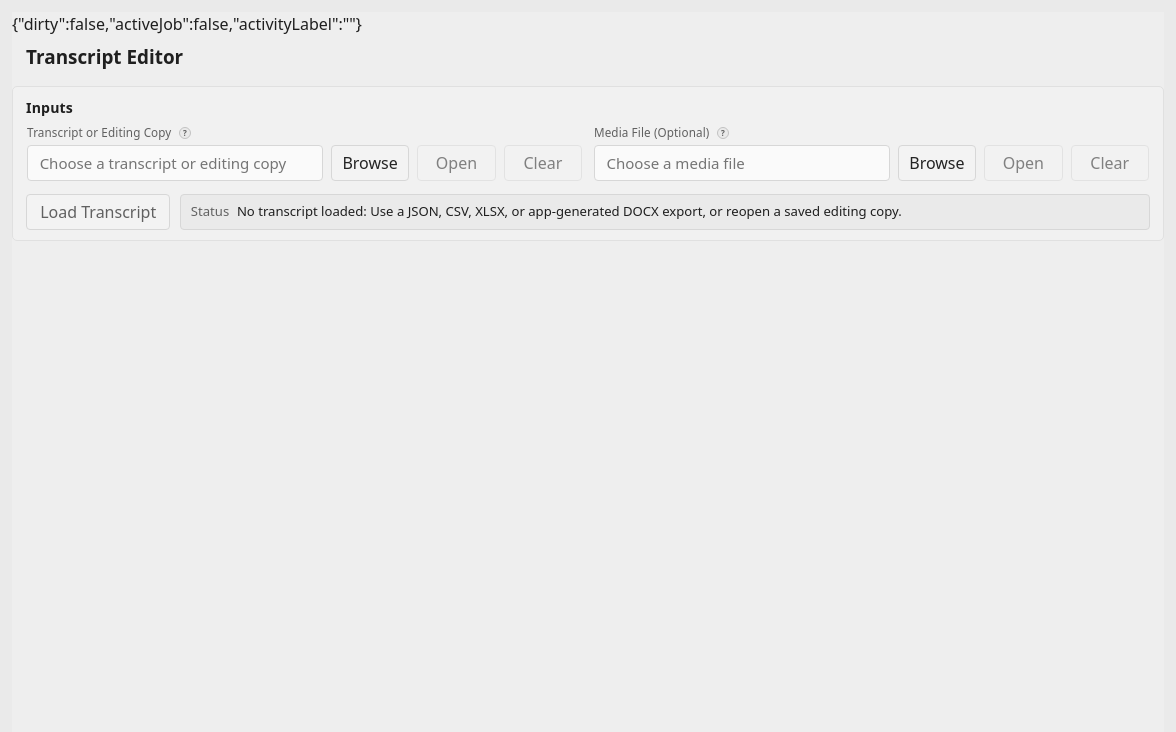
TranscriptEditorPage document workflow › returns to the preceding page when deleting its only segment
The image size is (1176, 732).
Step 1. Click the button "Browse" below "Transcript or Editing Copy" → (370,163), box [331,145,409,181]
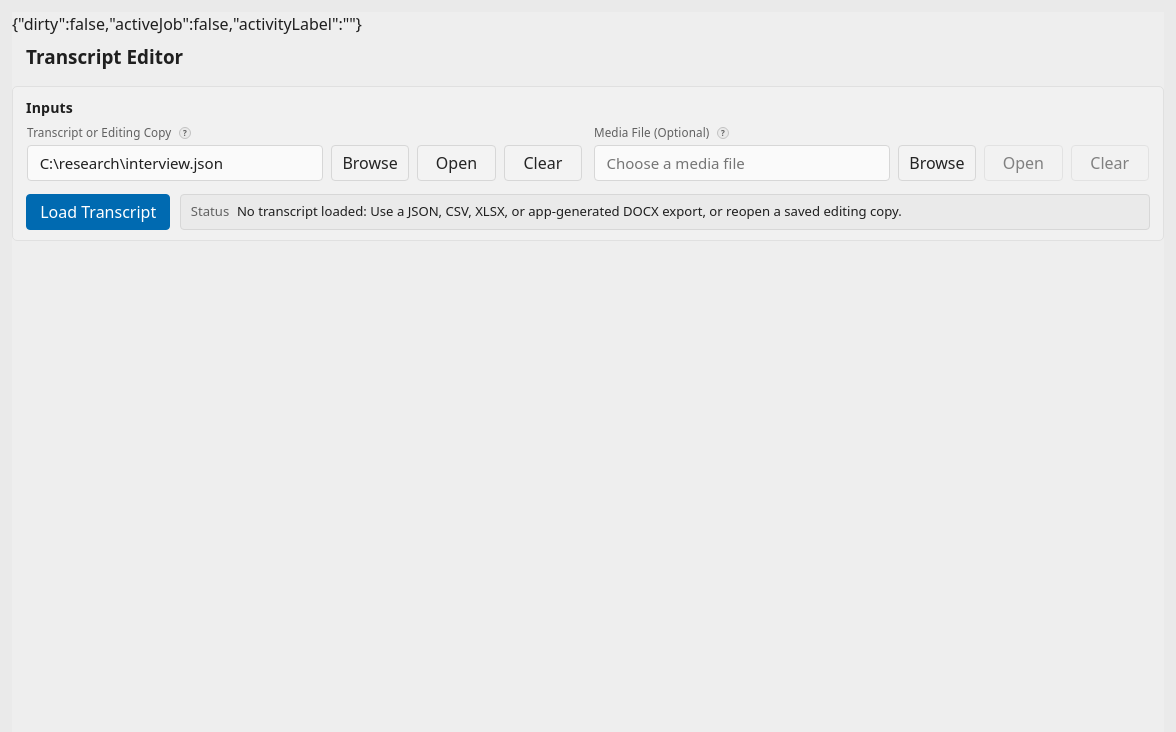
Step 2. Click the button "Load Transcript" → (98,212), box [26,194,170,230]
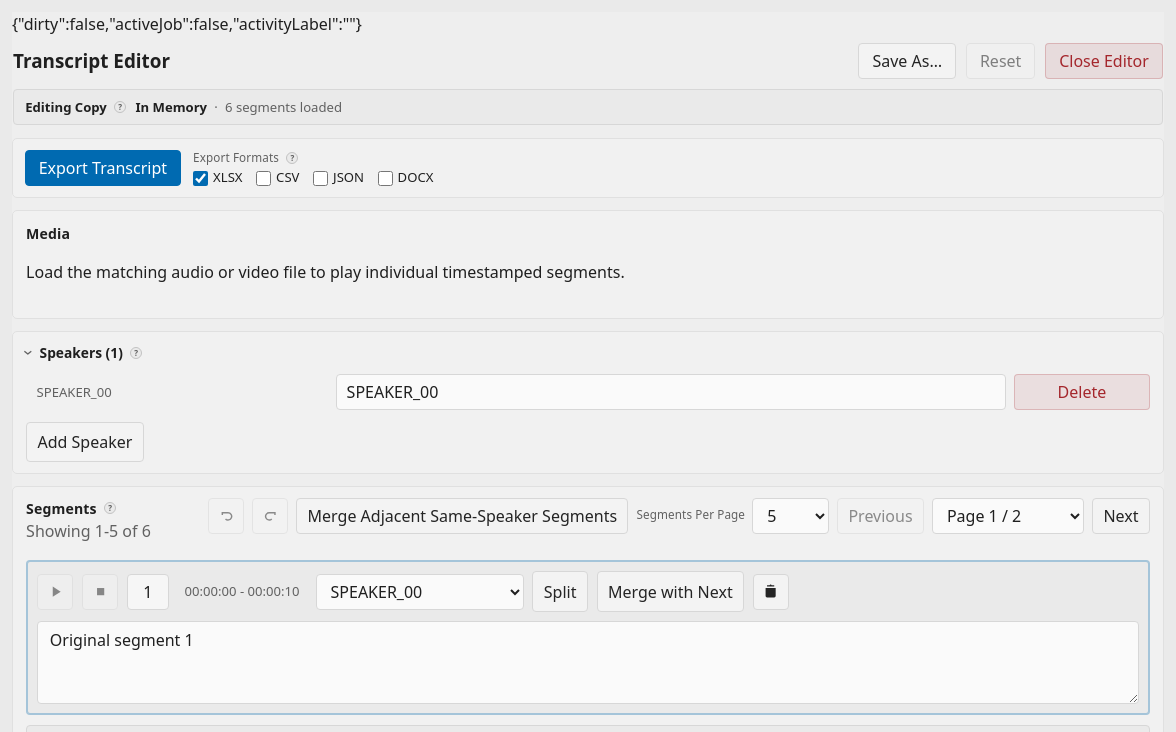
Now the button "Save As…" is shown, box [858,43,956,79]
Step 3. Select "5" in the dropdown labelled "Segments Per Page" → (791,516), box [752,498,829,534]
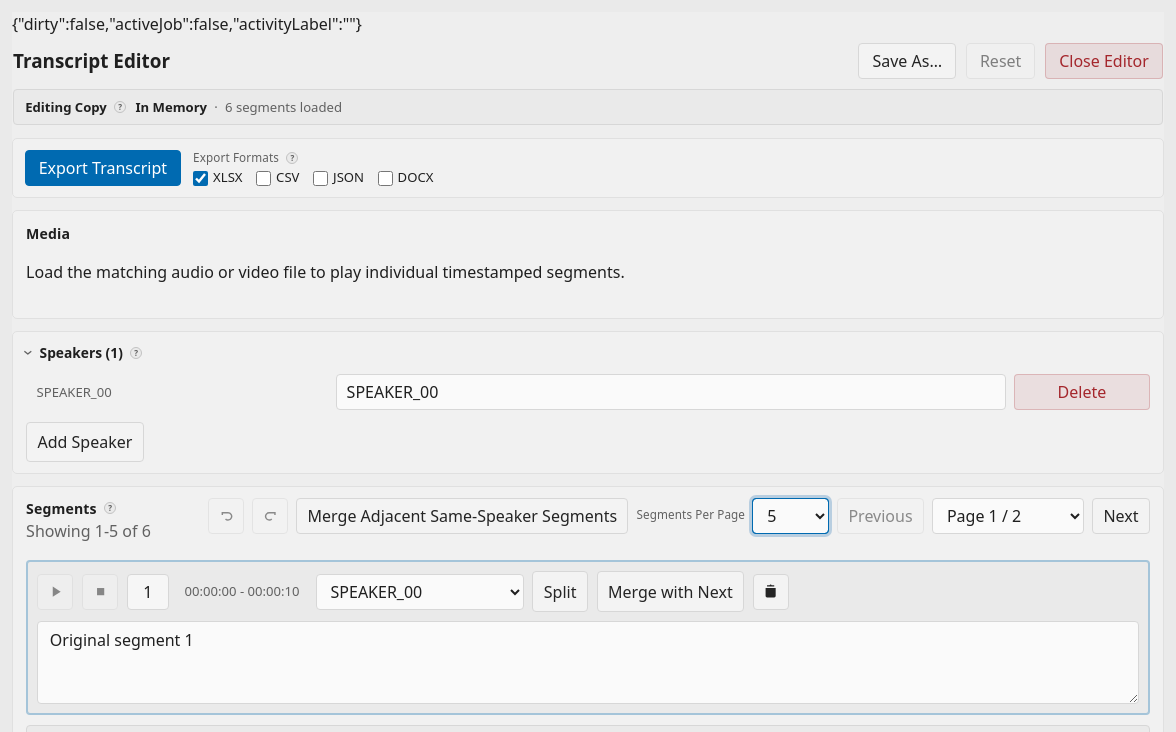
Step 4. Click the button "Next" → (1121,516), box [1092,498,1150,534]
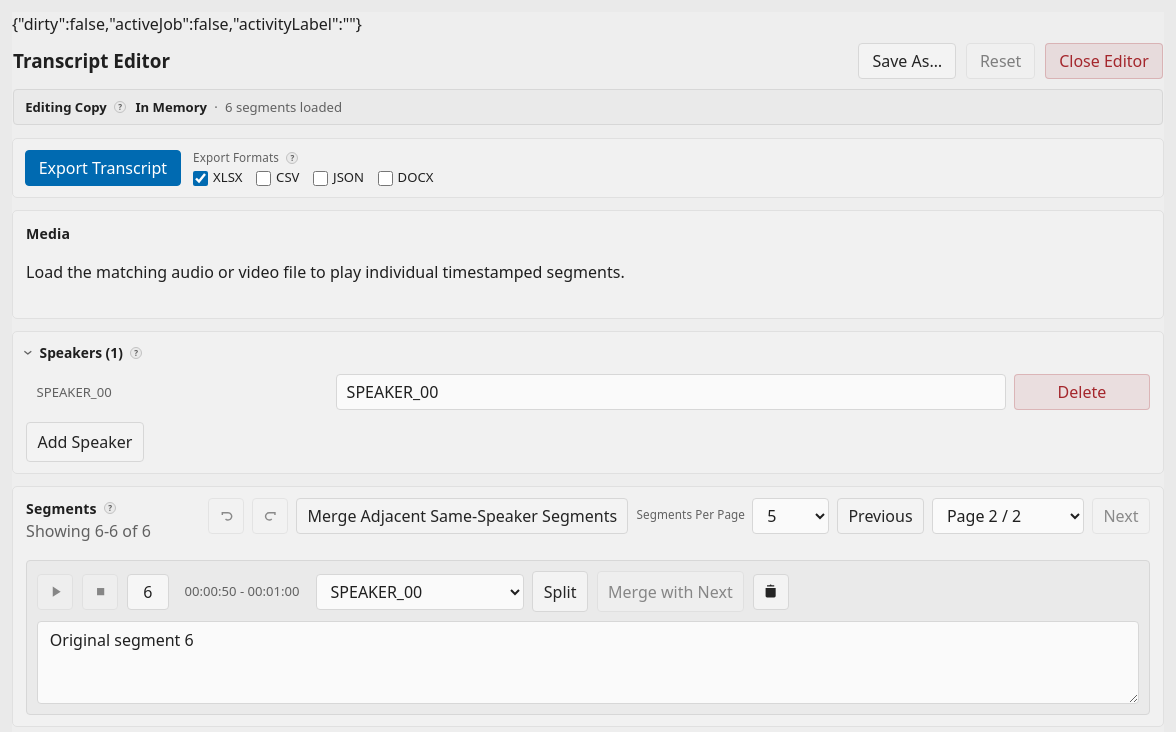
Now the text "Showing 6-6 of 6" is shown, box [26,519,151,543]
Step 5. Click the button named "Delete Segment" → (771,592), box [753,574,789,610]
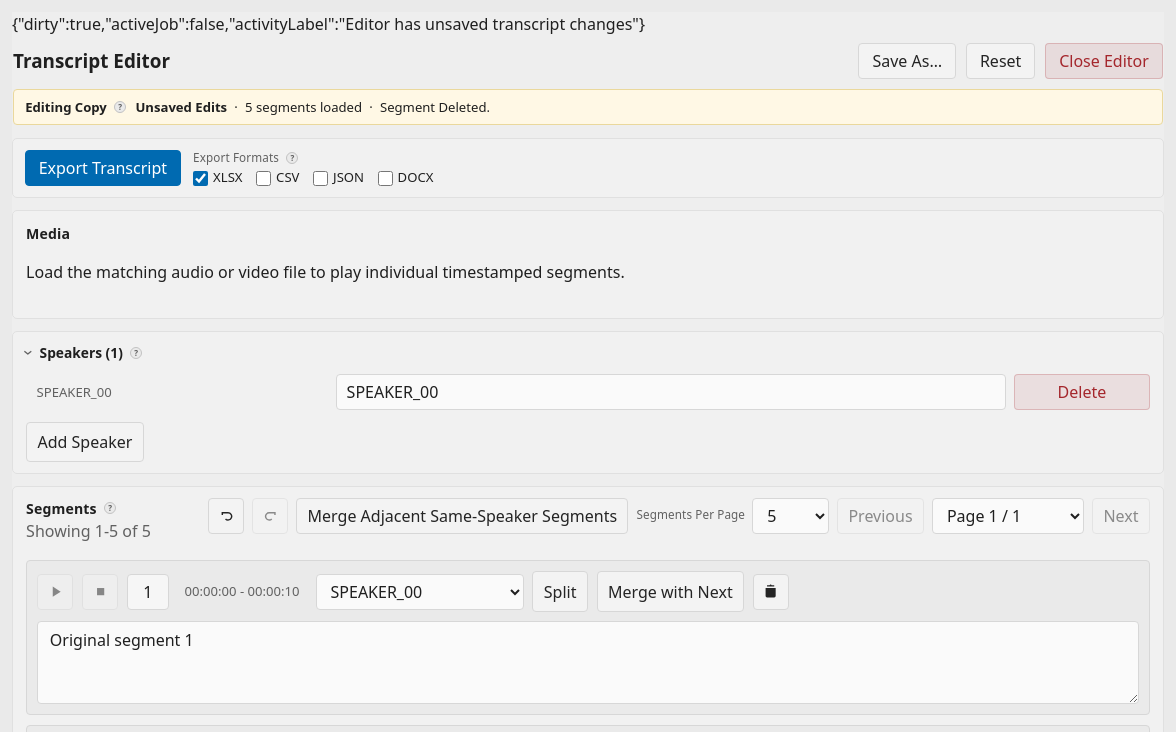
Now the button "Next" is disabled, box [1092,498,1150,534]
Now the text "Showing 1-5 of 5" is shown, box [26,519,151,543]
Now the button "Previous" is disabled, box [837,498,924,534]
